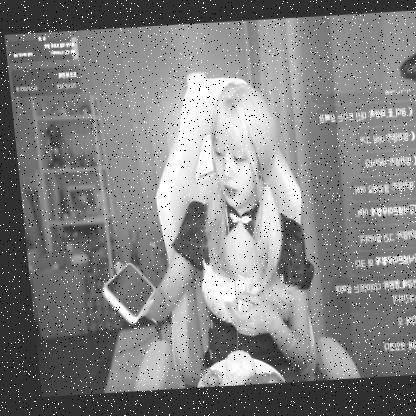streamer: (77, 80, 316, 394)
